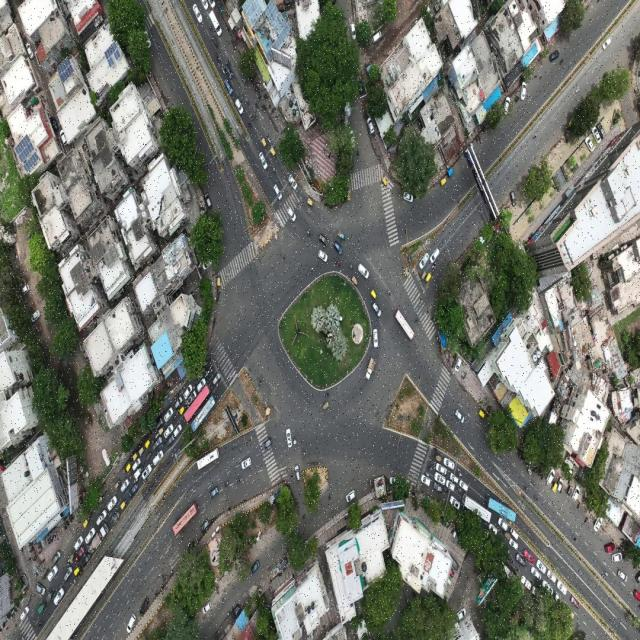3W: (304, 196, 316, 210), (82, 514, 91, 532), (566, 116, 576, 132), (37, 601, 47, 616), (477, 406, 487, 420), (46, 588, 55, 603), (259, 135, 268, 150), (369, 286, 378, 301), (447, 164, 456, 179), (269, 146, 278, 160), (211, 35, 219, 50), (350, 275, 359, 288), (502, 529, 511, 542), (120, 497, 128, 511), (381, 174, 388, 190), (425, 270, 432, 286), (439, 176, 447, 190), (551, 479, 558, 495), (73, 564, 82, 576), (70, 548, 76, 566), (113, 478, 122, 490), (132, 449, 139, 464), (126, 459, 133, 473), (145, 450, 152, 464), (420, 269, 427, 283), (433, 453, 442, 463), (159, 424, 166, 436), (179, 404, 186, 416), (216, 274, 222, 288), (139, 446, 145, 458), (145, 437, 151, 449)
Bus: (183, 382, 211, 423), (190, 394, 217, 435), (486, 490, 517, 524), (461, 493, 492, 524), (392, 305, 415, 343), (195, 448, 221, 473)
Cars: (246, 554, 265, 575), (46, 560, 61, 585), (53, 585, 66, 610), (190, 1, 203, 24), (500, 94, 512, 118), (138, 596, 151, 618), (344, 485, 357, 507), (357, 262, 371, 281), (583, 134, 595, 156), (198, 517, 211, 537), (518, 79, 529, 102), (231, 603, 244, 622), (126, 612, 137, 634), (366, 116, 377, 138), (596, 119, 607, 141), (356, 73, 366, 97), (260, 436, 273, 454), (202, 599, 215, 617), (600, 34, 613, 52), (508, 186, 518, 209), (371, 300, 383, 319), (293, 462, 302, 487), (546, 48, 561, 63), (84, 528, 97, 545), (529, 566, 542, 583), (454, 408, 467, 425), (96, 509, 108, 527), (417, 251, 429, 269), (372, 328, 381, 351), (428, 247, 440, 264), (273, 182, 283, 202), (287, 204, 297, 224), (107, 493, 118, 511), (544, 468, 555, 486), (151, 435, 164, 450), (542, 581, 555, 596), (443, 457, 456, 472), (35, 581, 47, 597), (51, 548, 63, 564), (285, 426, 293, 450), (318, 231, 330, 247), (617, 569, 629, 585), (523, 548, 535, 564), (449, 495, 461, 511), (434, 472, 446, 488), (75, 545, 85, 564), (74, 532, 84, 551), (234, 96, 244, 115), (593, 515, 603, 534), (454, 355, 463, 376), (204, 189, 213, 210), (82, 553, 93, 570), (287, 174, 298, 191), (259, 151, 268, 171), (569, 595, 581, 610), (19, 605, 30, 621), (186, 390, 197, 406), (333, 241, 344, 257), (349, 129, 357, 151), (557, 580, 568, 596), (536, 559, 547, 575), (184, 383, 193, 402), (224, 79, 234, 96), (153, 451, 165, 465), (317, 249, 329, 263), (350, 20, 358, 41), (435, 462, 447, 476), (110, 513, 121, 528), (64, 565, 73, 583), (120, 478, 130, 494), (129, 483, 139, 499), (143, 465, 153, 481), (174, 422, 184, 438), (547, 568, 557, 584), (241, 457, 253, 470), (401, 192, 414, 204), (420, 474, 432, 487), (225, 63, 234, 80), (488, 524, 500, 536), (208, 486, 219, 499), (516, 553, 527, 566), (445, 480, 456, 493), (164, 408, 174, 422), (373, 32, 383, 46), (164, 423, 173, 438), (572, 485, 579, 504), (509, 539, 520, 551), (611, 553, 624, 563), (459, 480, 469, 493), (433, 481, 443, 494), (197, 378, 206, 392), (604, 541, 616, 551), (557, 475, 563, 495), (497, 520, 509, 530), (449, 473, 459, 485), (154, 418, 163, 431), (133, 458, 141, 472), (166, 437, 175, 449), (213, 373, 221, 386), (175, 395, 182, 409), (510, 527, 518, 539), (593, 132, 600, 142), (209, 0, 216, 9)
LCV: (208, 9, 223, 37), (365, 355, 376, 381), (520, 575, 532, 591), (336, 227, 347, 243)
M2W: (241, 74, 251, 89), (303, 225, 313, 239), (236, 471, 245, 486), (572, 84, 582, 96), (265, 132, 273, 146), (305, 264, 315, 275), (288, 467, 294, 485), (300, 447, 309, 459), (574, 499, 583, 511), (334, 257, 342, 269), (522, 482, 530, 494), (570, 531, 578, 543), (37, 618, 44, 630), (215, 51, 221, 65), (249, 110, 255, 124), (223, 478, 230, 490), (187, 538, 193, 552), (301, 511, 308, 523), (584, 512, 590, 526), (253, 111, 259, 124), (192, 537, 198, 550), (327, 490, 333, 503), (153, 588, 160, 599), (229, 39, 235, 51), (387, 287, 393, 299), (532, 131, 538, 143), (600, 572, 606, 584), (226, 55, 233, 65), (160, 582, 167, 592), (533, 493, 540, 503), (430, 458, 437, 468), (63, 523, 69, 534), (220, 65, 226, 76), (246, 95, 251, 108), (225, 23, 230, 36), (26, 555, 33, 564), (169, 568, 176, 577), (513, 87, 520, 96), (530, 478, 537, 487), (427, 464, 434, 473), (29, 545, 35, 555), (54, 531, 59, 543), (65, 518, 71, 528), (208, 23, 214, 33), (272, 163, 277, 175), (559, 57, 565, 67), (603, 569, 609, 579), (431, 266, 439, 273), (456, 488, 464, 495), (246, 121, 252, 130), (324, 391, 330, 400), (433, 446, 439, 455), (510, 557, 515, 567), (33, 555, 40, 562), (40, 558, 47, 565), (455, 465, 462, 472), (423, 471, 430, 478), (83, 549, 89, 557), (227, 505, 233, 513), (443, 487, 449, 495), (267, 103, 272, 112), (350, 264, 355, 273), (357, 145, 360, 160), (128, 469, 134, 476), (171, 416, 177, 423), (173, 394, 180, 400), (514, 97, 520, 104), (456, 472, 463, 478), (162, 438, 167, 446), (514, 564, 518, 574), (38, 549, 44, 555), (49, 535, 53, 544), (151, 438, 155, 447), (176, 408, 180, 417), (215, 381, 219, 390), (208, 363, 214, 369), (206, 354, 211, 361), (269, 108, 274, 115), (257, 80, 262, 87), (47, 538, 51, 546), (208, 358, 212, 366), (262, 90, 266, 98), (52, 533, 55, 543), (122, 466, 125, 476), (139, 473, 142, 483), (205, 371, 210, 377), (263, 105, 266, 115), (79, 570, 83, 577), (211, 367, 215, 374), (67, 558, 70, 567), (130, 474, 134, 480), (156, 432, 159, 440), (210, 374, 216, 378), (206, 377, 210, 383), (275, 115, 278, 123), (262, 95, 268, 99), (255, 90, 261, 94), (74, 576, 77, 583), (134, 477, 137, 484), (255, 101, 258, 108), (260, 104, 263, 111), (258, 94, 261, 101), (193, 385, 197, 390), (254, 87, 259, 91), (253, 83, 257, 88), (265, 97, 268, 102), (143, 482, 147, 484)
Truck: (87, 522, 110, 555)
